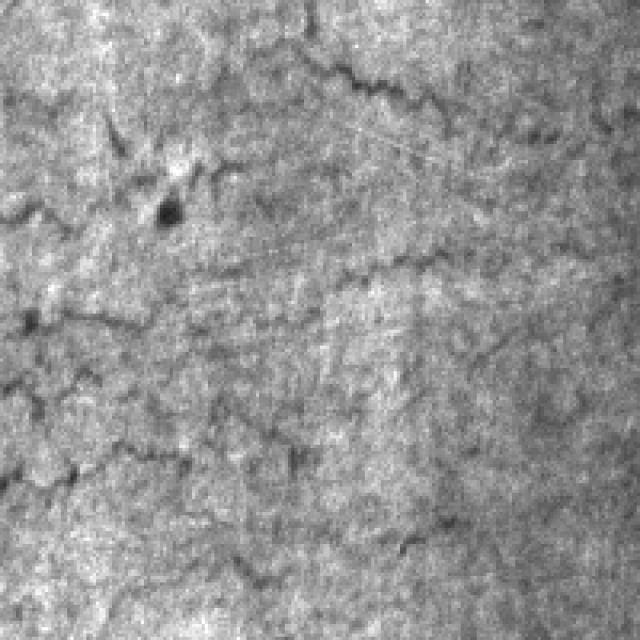crazing: (0, 28, 566, 233), (0, 288, 336, 592)
